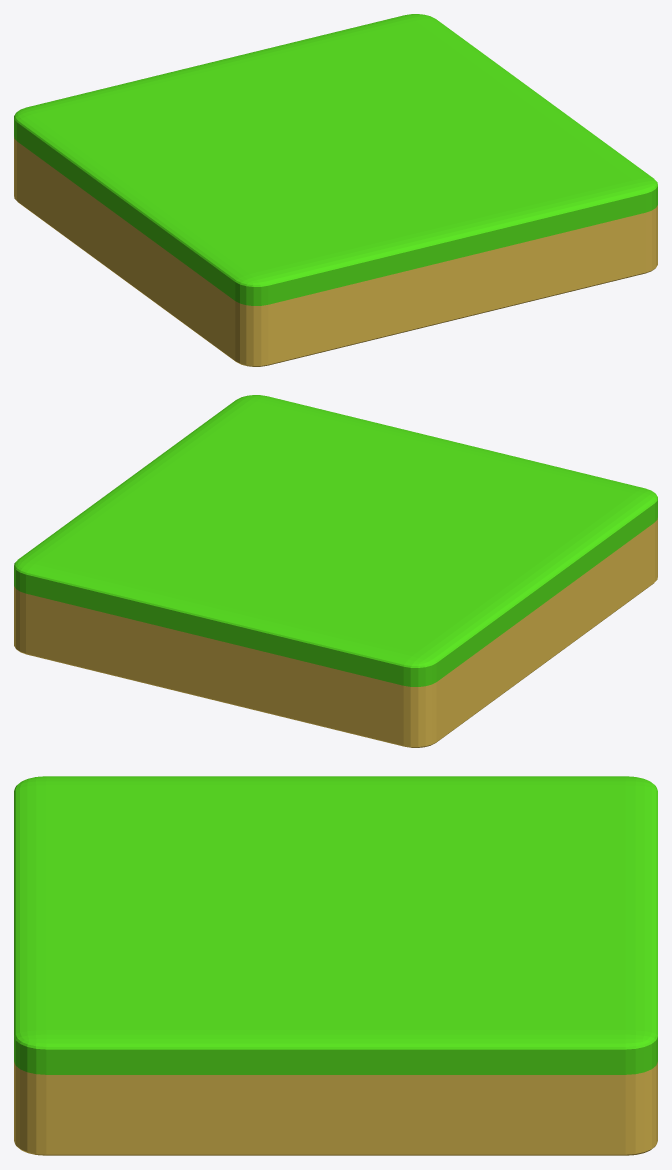
File: Ground.fbx
3 renders of one model, top to bottom at view 1: azimuth 30°, elevation 25°; view 2: azimuth 150°, elevation 25°; view 3: azimuth 270°, elevation 25°, orthographic. The views are drawn at different scales.
Visible parts, largest first — view 1: Ground; view 2: Ground; view 3: Ground.
Boxes of the visible parts, box(x1,y1,x2,y2) form: Ground: box(14, 14, 657, 366); Ground: box(14, 395, 657, 747); Ground: box(14, 776, 657, 1155).
Bounding box in the file's own units: 1000 × 200 × 1000.
